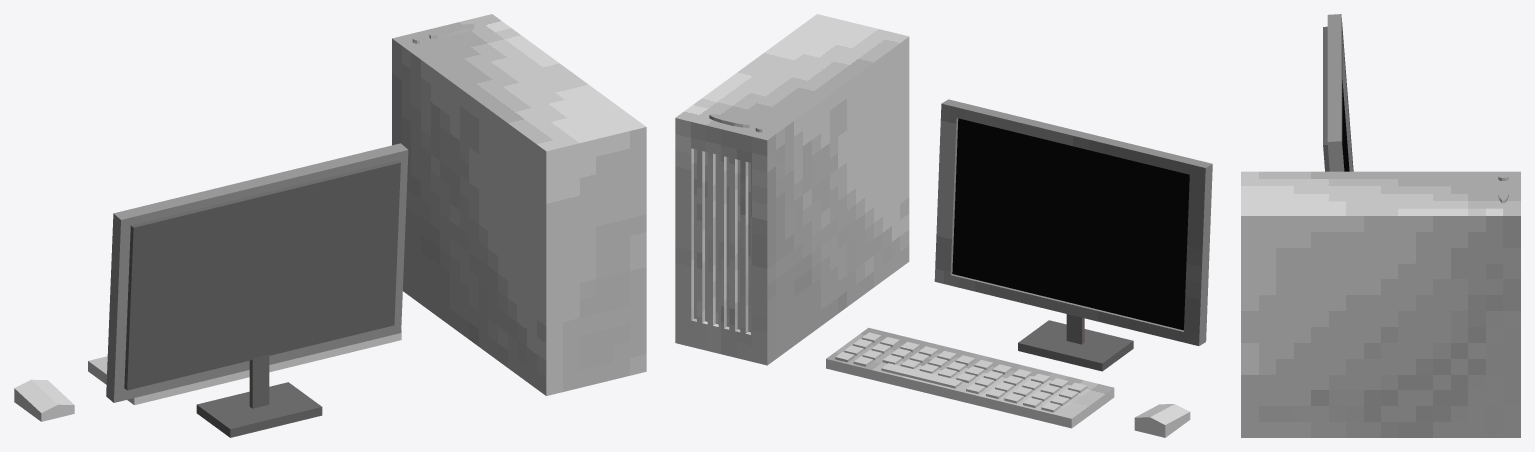
3 views of the same model, side by side, from view 1: azimuth 30°, elevation 25°; view 2: azimuth 150°, elevation 25°; view 3: azimuth 270°, elevation 25° (orthographic). The views are drawn at different scales.
Parts seen in each view (by area): view 1: PC, Monitor, Keyboard, Mouse; view 2: PC, Monitor, Keyboard, Mouse; view 3: PC, Monitor.
Part boxes in pixels (x1,y1,x2,y2): PC: (392,14,646,395); Monitor: (106,143,408,437); Keyboard: (88,329,401,405); Mouse: (14,379,74,421); PC: (675,14,909,365); Monitor: (934,99,1212,371); Keyboard: (826,327,1114,428); Mouse: (1134,404,1190,437); PC: (1241,171,1520,437); Monitor: (1323,14,1353,171).
Size of the model in its own units: 1.89 by 0.8906 by 1.
1 material, 1 textured.
